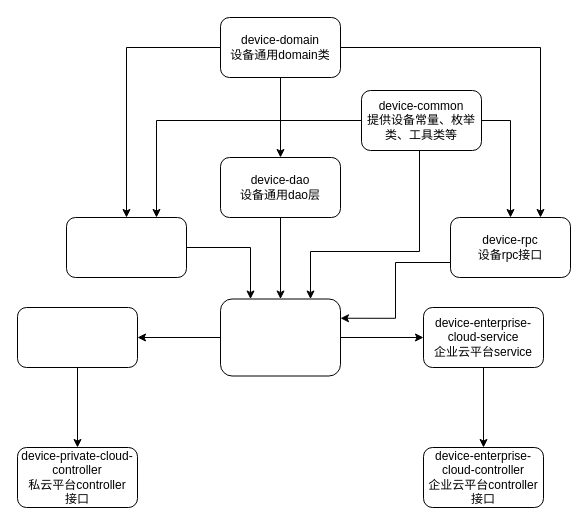
This 588x525 diagram has some shape labels left out. The shapes that lost their labels are listed below. From the top down, each one's centre as x and y in pixels, then its label:
At point 126,247: "device-api 提供对外模块api接口、拦截器接口".
At point 77,337: "device-private-cloud-service 私云平台service".
At point 280,337: "device-base 通用的service和service接口，通用的平台controller接口".
